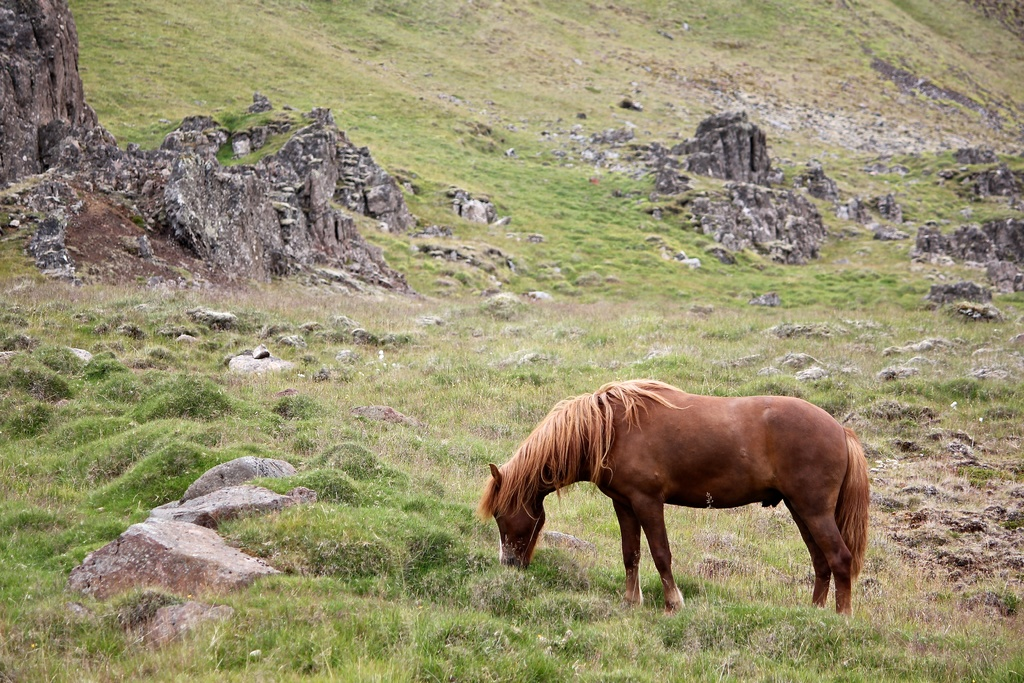horse: (477, 378, 872, 619)
